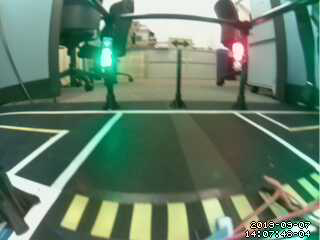Left_Right_sign: (168, 36, 194, 49)
Traffic_light_green: (101, 37, 113, 68)
Traffic_light_red: (230, 41, 244, 71)
